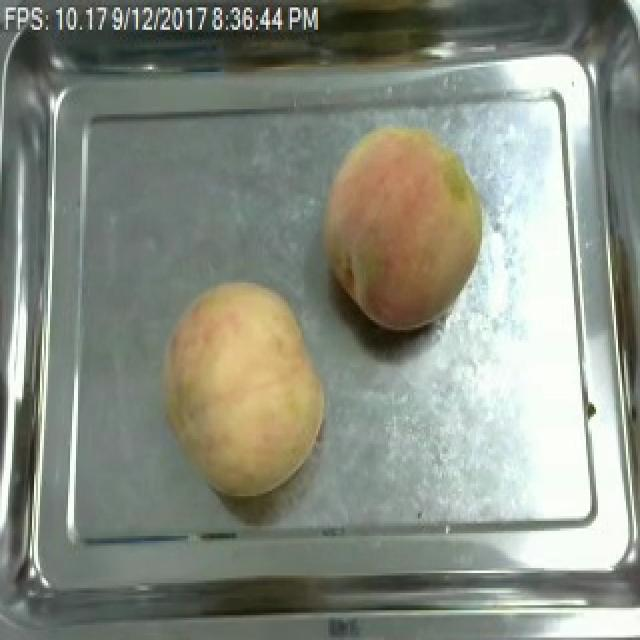Fruit: (152, 273, 336, 501), (312, 114, 494, 340)
